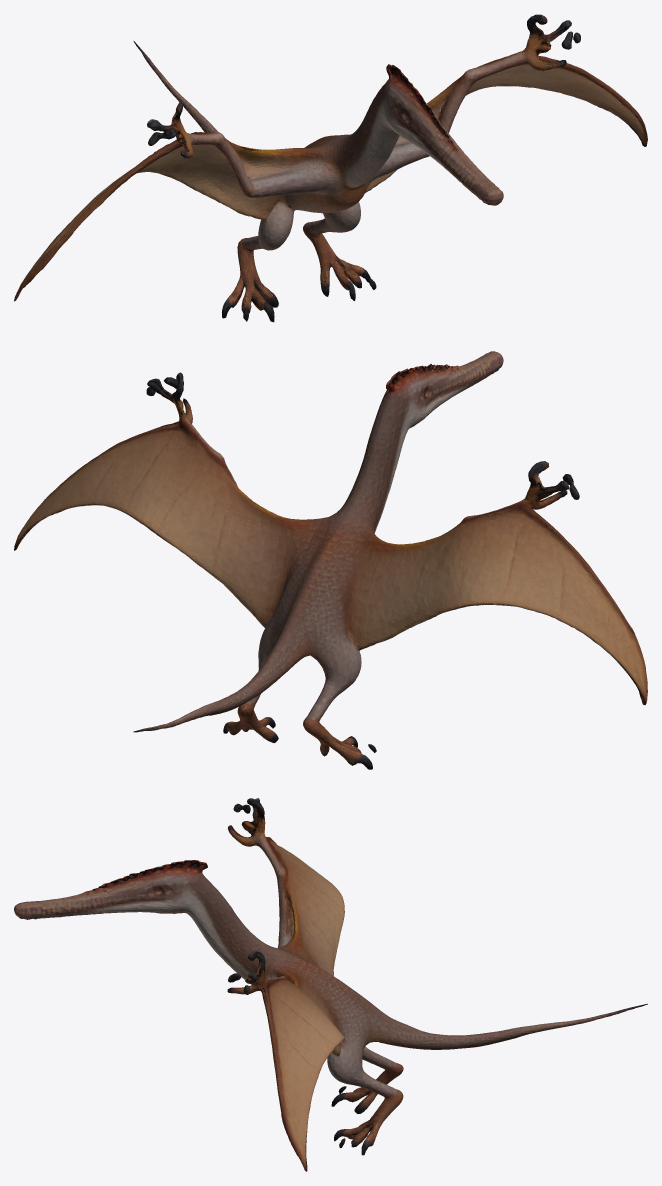
3 views of the same model, one above another, from view 1: azimuth 30°, elevation 25°; view 2: azimuth 150°, elevation 25°; view 3: azimuth 270°, elevation 25° (orthographic). The views are drawn at different scales.
Visible parts, largest first — view 1: world; view 2: world; view 3: world.
Part boxes in pixels (left/top/right/bottom): world: left=14, top=14, right=647, bottom=322; world: left=14, top=351, right=647, bottom=769; world: left=14, top=798, right=647, bottom=1171.
Bounding box in the file's own units: 0.9975 × 0.4605 × 0.9973.
Materials: 1 (1 with a texture image).
